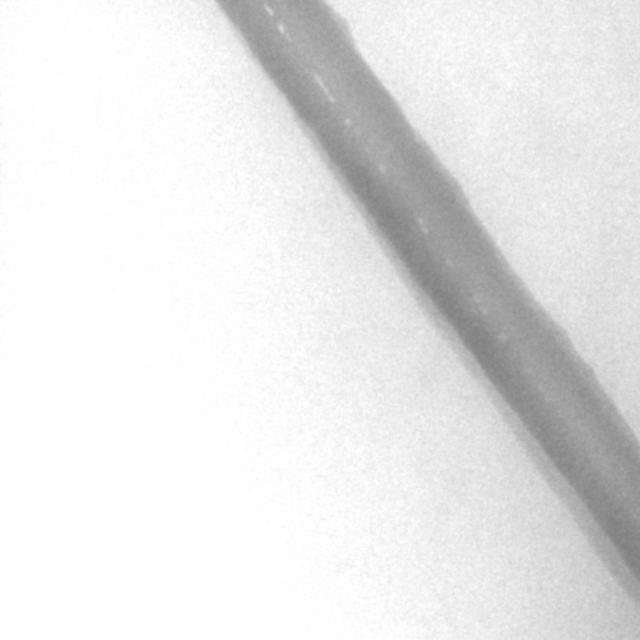air hole: (275, 20, 285, 35), (263, 4, 274, 16)
